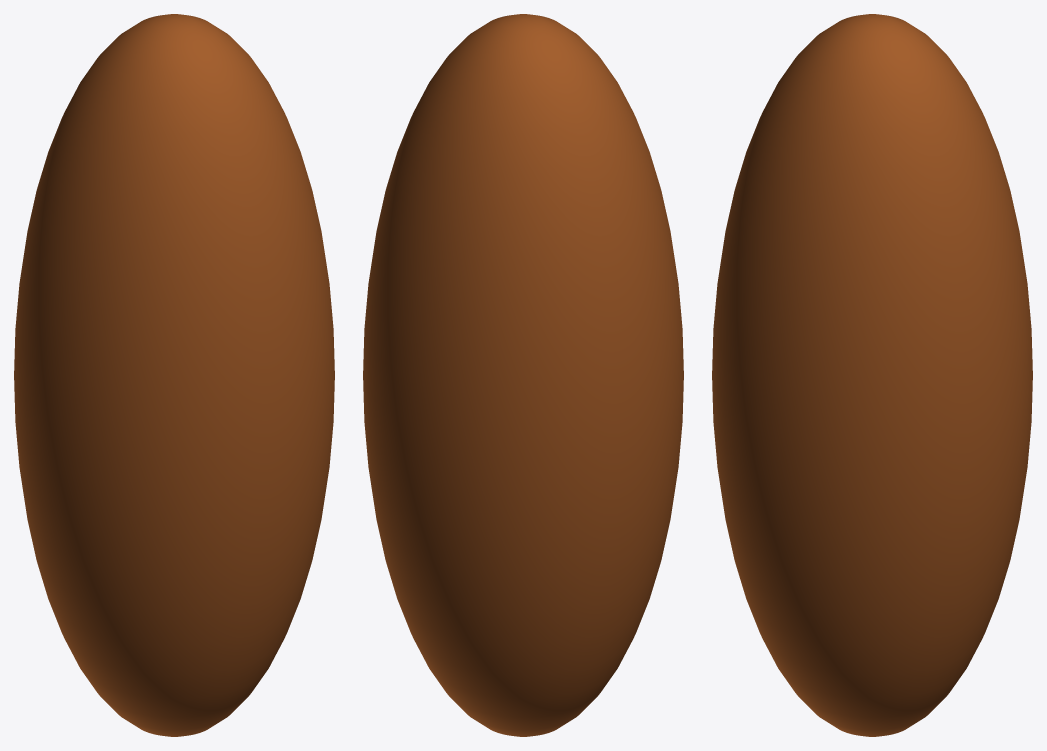
Rendered from cob-body.glb.
The picture shows the model from 3 angles, left to right: view 1: azimuth 30°, elevation 25°; view 2: azimuth 150°, elevation 25°; view 3: azimuth 270°, elevation 25°; orthographic projection.
Visible parts, largest first — view 1: CobBody; view 2: CobBody; view 3: CobBody.
Boxes of the visible parts, x1,y1,x2,y2 form: CobBody: (14,14,334,736); CobBody: (363,14,683,736); CobBody: (712,14,1032,736).
Size of the model in its own units: 2.21 by 5.4 by 2.21.
